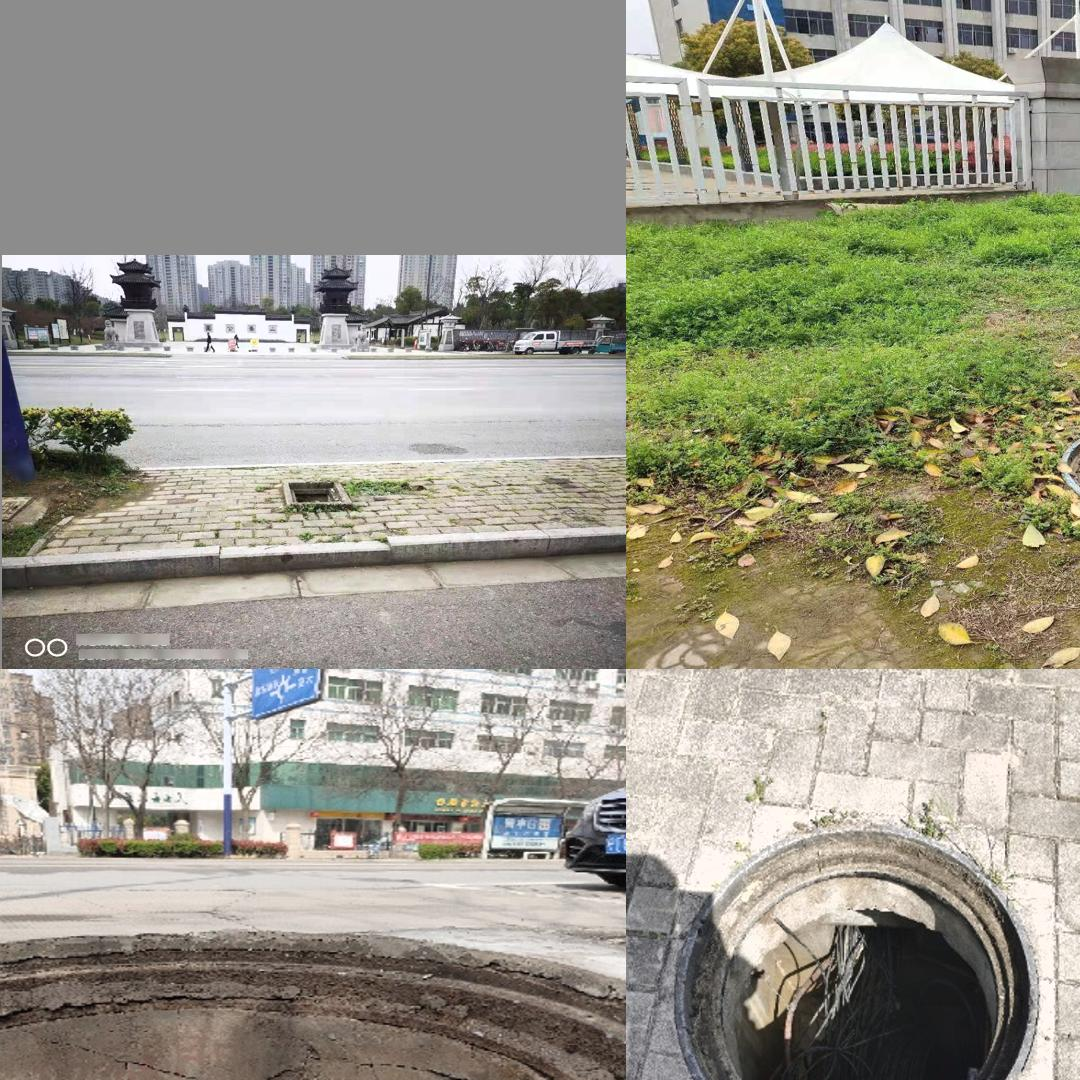lose: (0, 891, 623, 1080), (672, 824, 1041, 1080), (1055, 419, 1080, 531), (282, 477, 353, 506)
